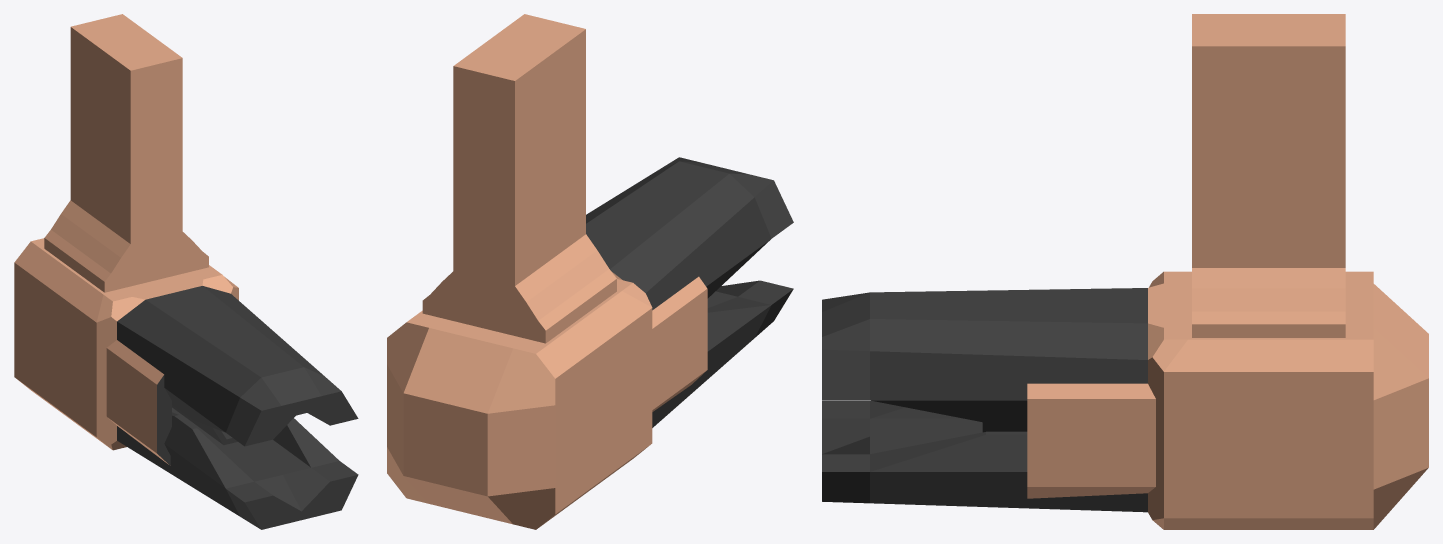
Rendered from RAILGUN.fbx.
3 views of the same model, side by side, from view 1: azimuth 30°, elevation 25°; view 2: azimuth 150°, elevation 25°; view 3: azimuth 270°, elevation 25° (orthographic). The views are drawn at different scales.
Visible parts, largest first — view 1: Railgun; view 2: Railgun; view 3: Railgun.
Boxes of the visible parts, x1=… form: Railgun: x1=14, y1=14, x2=358, y2=529; Railgun: x1=387, y1=14, x2=793, y2=529; Railgun: x1=822, y1=14, x2=1428, y2=529.
Bounding box in the file's own units: 157 × 384 × 454.
